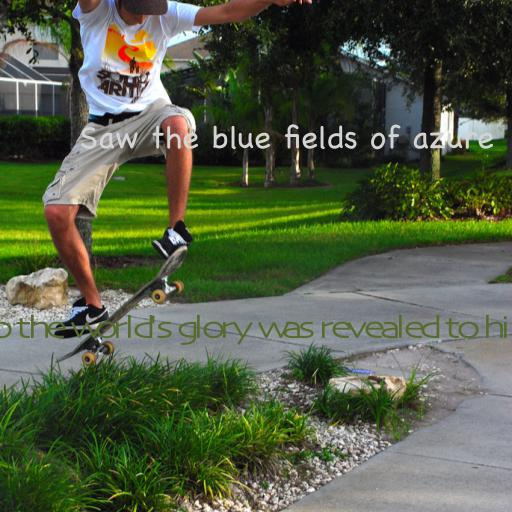Chalkboard: (79, 124, 493, 150)
Skia: (0, 314, 512, 345)
